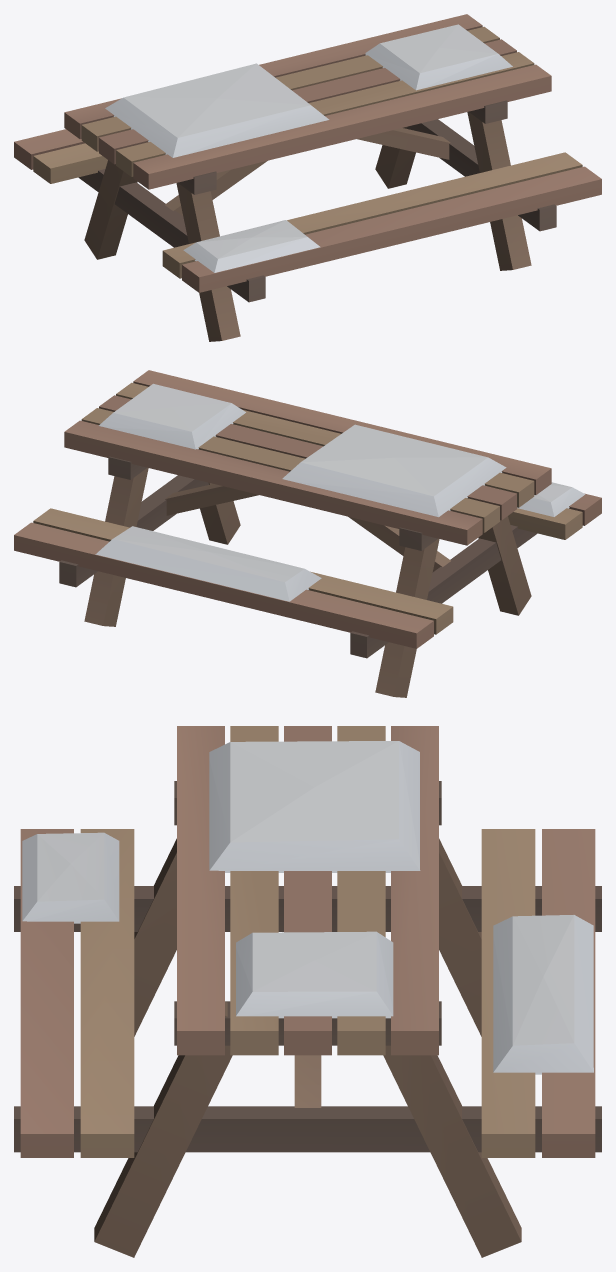
The model's file is picnic.lod1.glb.
3 views of the same model, one above another, from view 1: azimuth 30°, elevation 25°; view 2: azimuth 150°, elevation 25°; view 3: azimuth 270°, elevation 25° (orthographic). The views are drawn at different scales.
Size of the model in its own units: 2.16 by 0.946 by 1.76.
